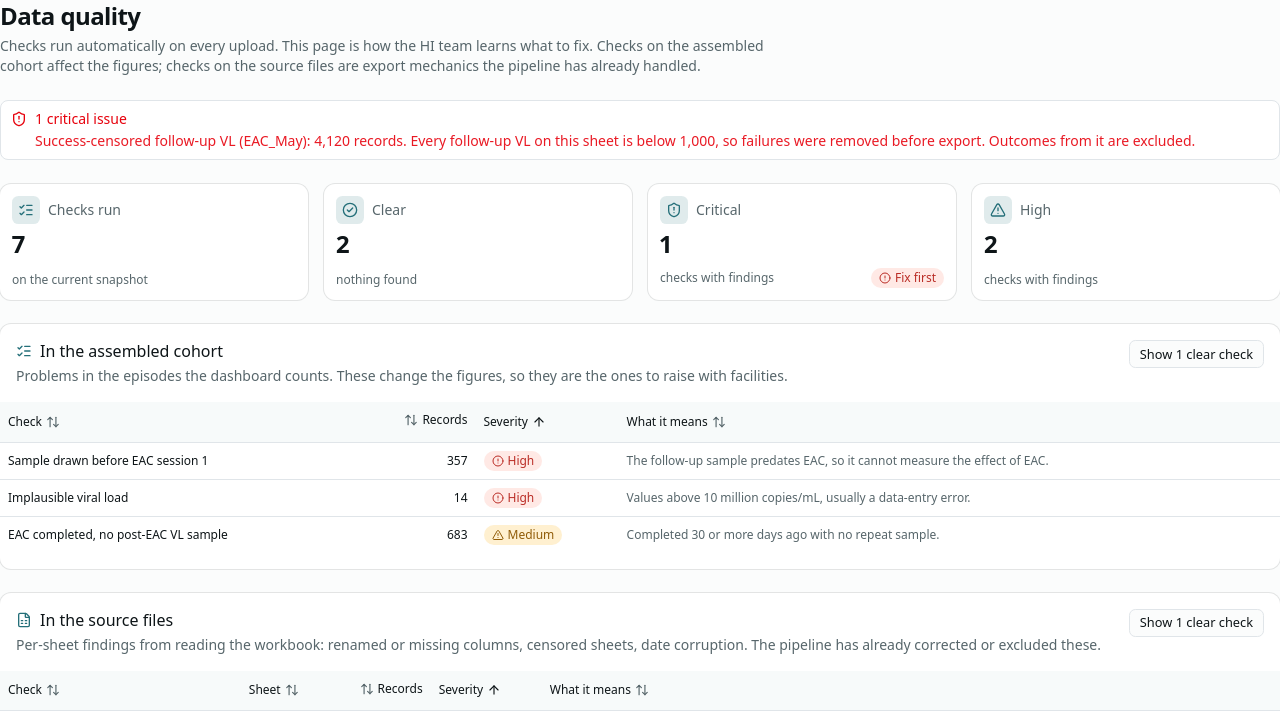
it: Data quality page › keeps cohort checks apart from source-file checks, and hides clear ones until asked
Expected: the text "Sample drawn before EAC session 1" is shown, [0,442,356,479]
Expected: the text "EAC session dates out of order" is not shown
Step 1. Click the button "Show 1 clear check" in the row of "In the assembled cohort" → {"x": 1196, "y": 354}, box [1129,340,1264,368]
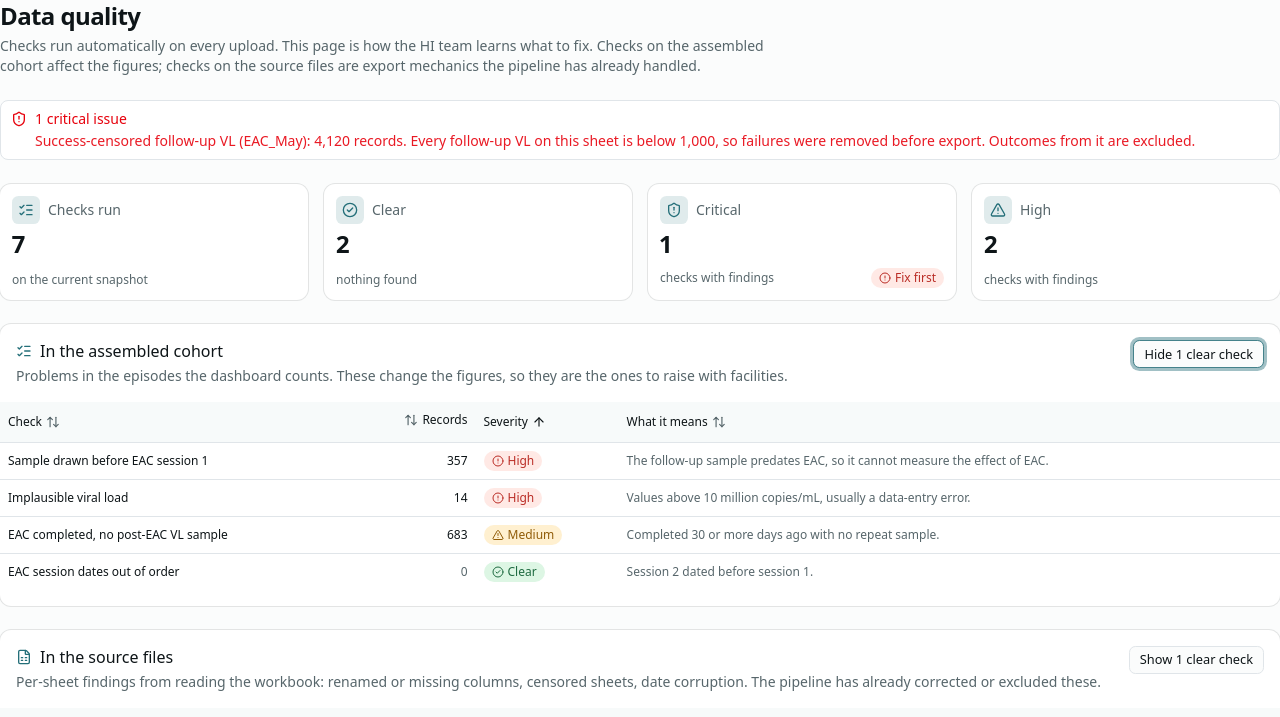
Expected: the text "EAC session dates out of order" is shown, [0,553,356,590]
